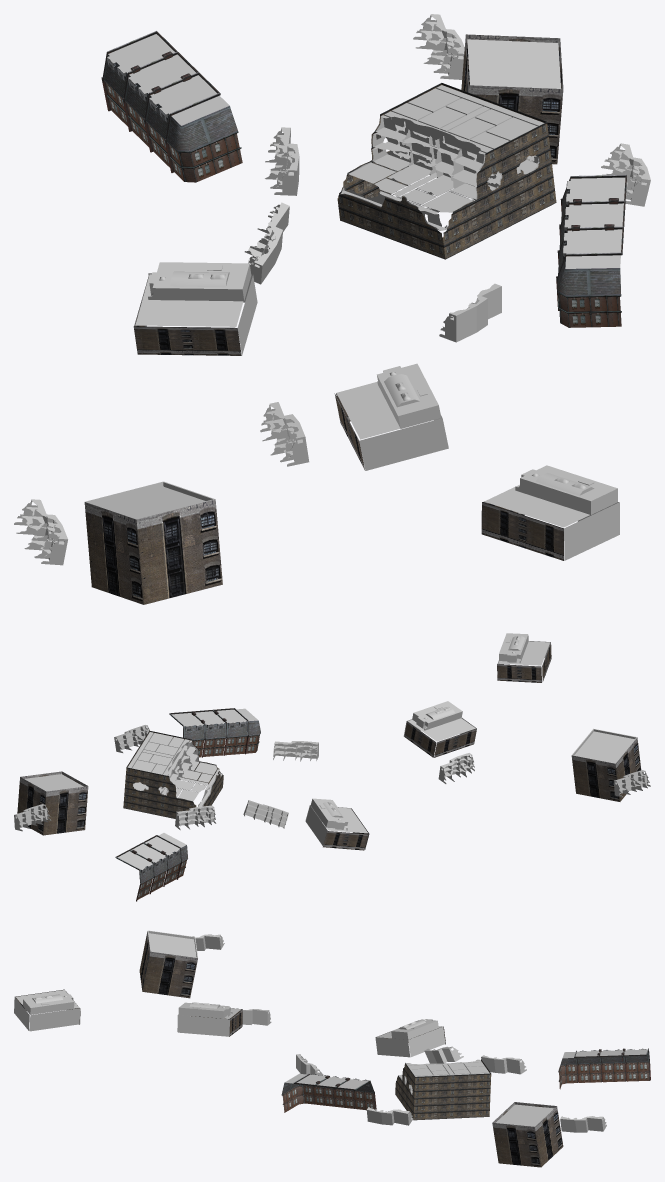
Rendered from Distant05.fbx.
3 views of the same model, one above another, from view 1: azimuth 30°, elevation 25°; view 2: azimuth 150°, elevation 25°; view 3: azimuth 270°, elevation 25° (orthographic). The views are drawn at different scales.
Visible parts, largest first — view 1: LODGroup_1_MainMesh_1_SubMesh_1, LODGroup_1_MainMesh_1_SubMesh_3, LODGroup_1_MainMesh_1_SubMesh_2, LODGroup_1_MainMesh_1_SubMesh_4, LODGroup_1_MainMesh_1_SubMesh_5, LODGroup_1_MainMesh_1_SubMesh_6; view 2: LODGroup_1_MainMesh_1_SubMesh_1, LODGroup_1_MainMesh_1_SubMesh_3, LODGroup_1_MainMesh_1_SubMesh_2, LODGroup_1_MainMesh_1_SubMesh_4, LODGroup_1_MainMesh_1_SubMesh_5, LODGroup_1_MainMesh_1_SubMesh_6; view 3: LODGroup_1_MainMesh_1_SubMesh_1, LODGroup_1_MainMesh_1_SubMesh_3, LODGroup_1_MainMesh_1_SubMesh_2, LODGroup_1_MainMesh_1_SubMesh_4, LODGroup_1_MainMesh_1_SubMesh_6, LODGroup_1_MainMesh_1_SubMesh_5.
Part boxes in pixels (x1,y1,x2,y2): LODGroup_1_MainMesh_1_SubMesh_1: [14, 14, 650, 565]; LODGroup_1_MainMesh_1_SubMesh_3: [84, 34, 563, 604]; LODGroup_1_MainMesh_1_SubMesh_2: [337, 83, 556, 259]; LODGroup_1_MainMesh_1_SubMesh_4: [104, 80, 621, 327]; LODGroup_1_MainMesh_1_SubMesh_5: [104, 54, 621, 296]; LODGroup_1_MainMesh_1_SubMesh_6: [101, 31, 626, 310]; LODGroup_1_MainMesh_1_SubMesh_1: [14, 633, 650, 869]; LODGroup_1_MainMesh_1_SubMesh_3: [17, 643, 641, 850]; LODGroup_1_MainMesh_1_SubMesh_2: [123, 730, 223, 823]; LODGroup_1_MainMesh_1_SubMesh_4: [116, 710, 260, 899]; LODGroup_1_MainMesh_1_SubMesh_5: [140, 720, 260, 883]; LODGroup_1_MainMesh_1_SubMesh_6: [115, 708, 248, 901]; LODGroup_1_MainMesh_1_SubMesh_1: [14, 930, 647, 1132]; LODGroup_1_MainMesh_1_SubMesh_3: [15, 931, 563, 1167]; LODGroup_1_MainMesh_1_SubMesh_2: [395, 1059, 491, 1120]; LODGroup_1_MainMesh_1_SubMesh_4: [281, 1049, 649, 1112]; LODGroup_1_MainMesh_1_SubMesh_6: [293, 1048, 650, 1109]; LODGroup_1_MainMesh_1_SubMesh_5: [281, 1052, 649, 1094].
Bounding box in the file's own units: 33129 × 5015 × 41502.
